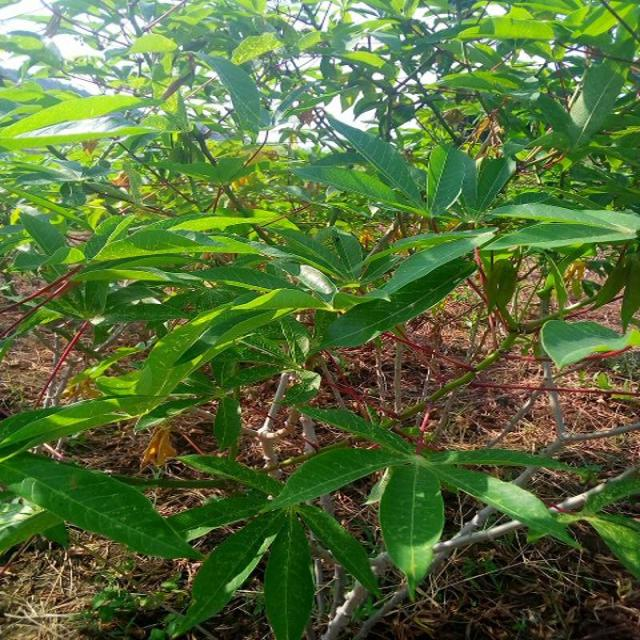cassava leaf: (378, 456, 444, 598), (540, 316, 638, 369)
